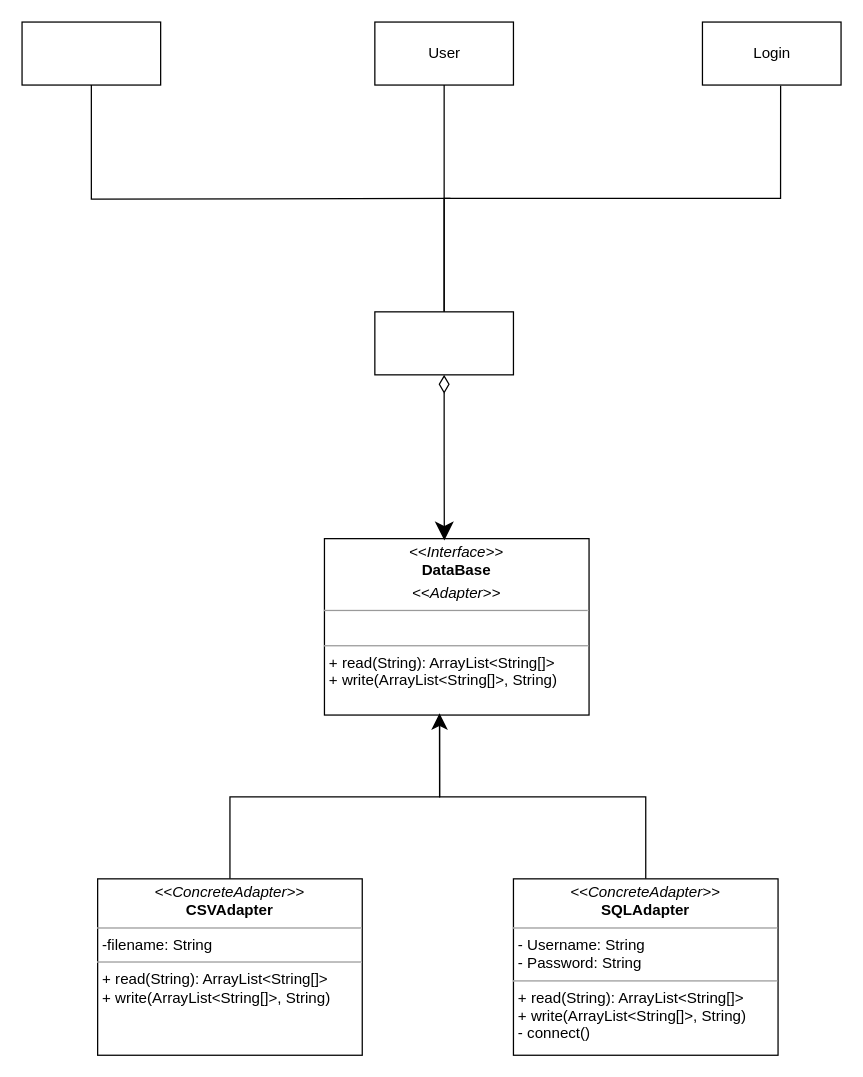
Some shapes in this 863 by 1077 pixel diagram are drawn without their labels. Here are the shapes that lost their labels. From the top down, the box of each, then its label:
(21, 21, 161, 85): Questions
(374, 311, 513, 375): Command
